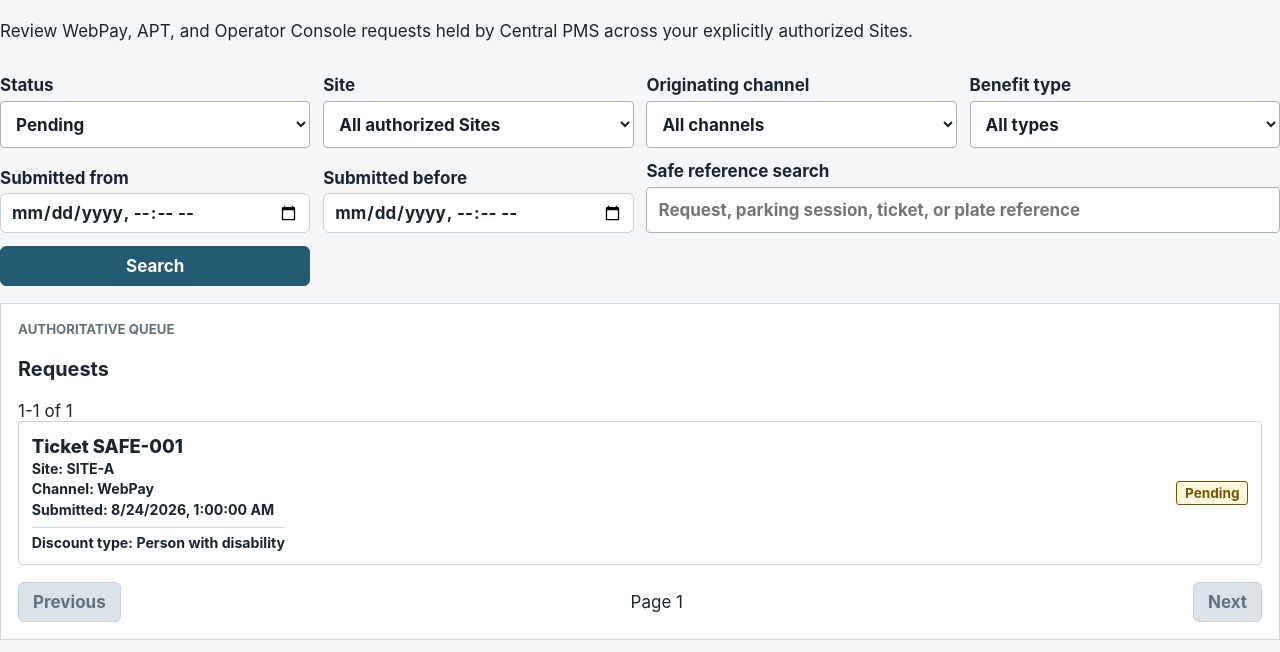
it: Statutory Benefit Requests › loads pending by default, renders identifiable queue facts without the evidence notice
Click the button named "Person with disability" at (640, 493), box left=18, top=421, right=1262, bottom=565
(page scrolled)
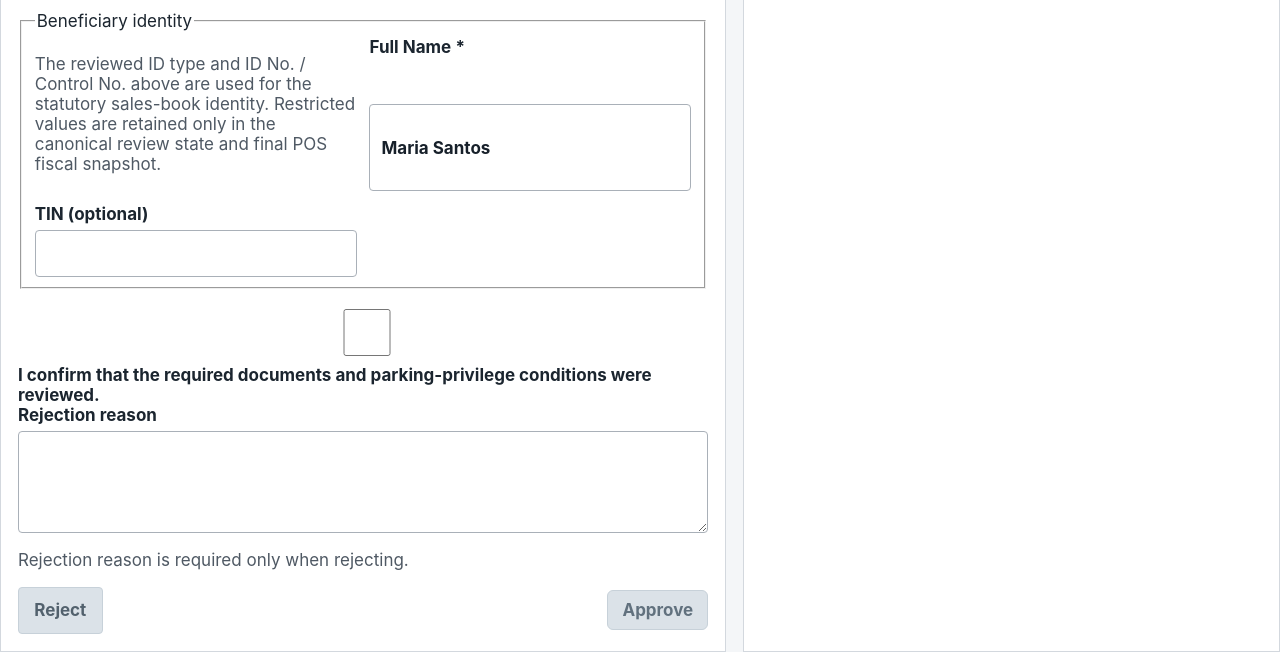
Expected: the checkbox named "I confirm that the required documents and parking-privilege conditions were reviewed." is shown, left=22, top=310, right=712, bottom=356
